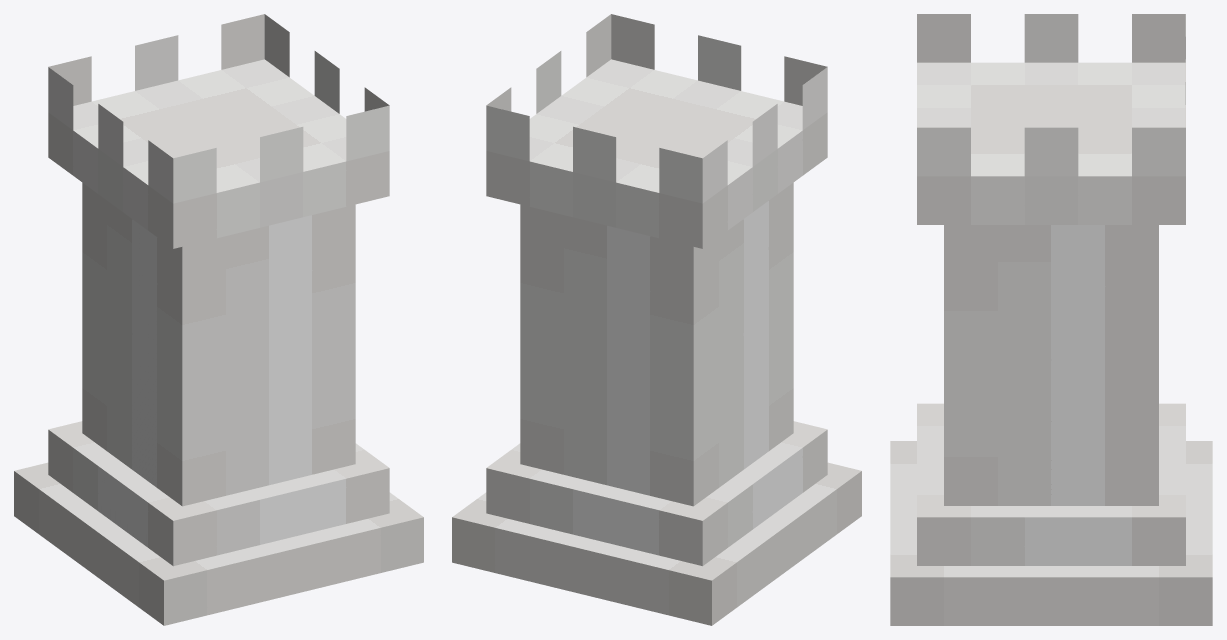
File: rook.gltf
3 renders of one model, left to right at view 1: azimuth 30°, elevation 25°; view 2: azimuth 150°, elevation 25°; view 3: azimuth 270°, elevation 25°, orthographic. The views are drawn at different scales.
Parts seen in each view (by area): view 1: cube (×15); view 2: cube (×15); view 3: cube (×10).
Part boxes in pixels (left/top/right/bottom): cube (×15): left=14, top=14, right=423, bottom=625; cube (×15): left=452, top=14, right=861, bottom=625; cube (×10): left=890, top=14, right=1212, bottom=625.
Size of the model in its own units: 0.375 by 0.625 by 0.375.
1 material, 1 textured.
